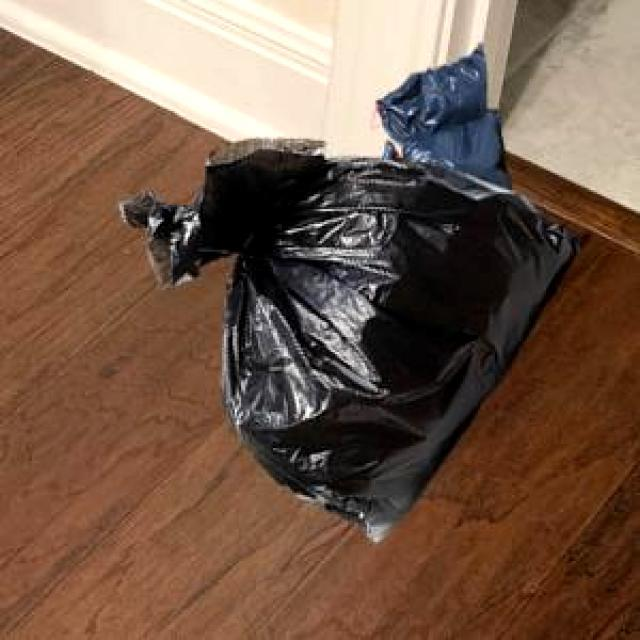Garbage_Bag: (118, 136, 577, 538), (372, 42, 509, 188)
